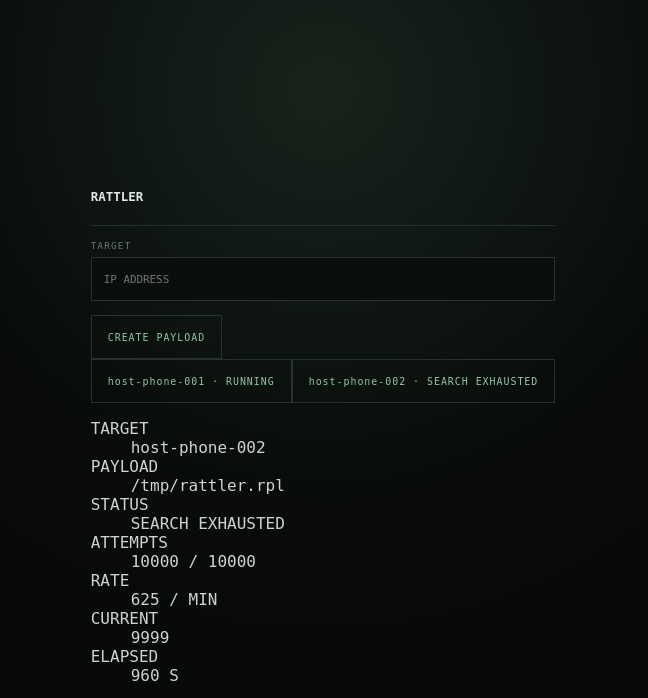
reconstructs and selects multiple canonical target deployments while authoring remains available
Expected: the navigation bar named "RATTLER deployments" shows "host-phone-001 · RUNNING", [91,359,555,403]
Expected: the navigation bar named "RATTLER deployments" shows "host-phone-002 · SEARCH EXHAUSTED", [91,359,555,403]
Click the button "host-phone-001 · RUNNING". click: click(191, 381)
box: [91,359,292,403]
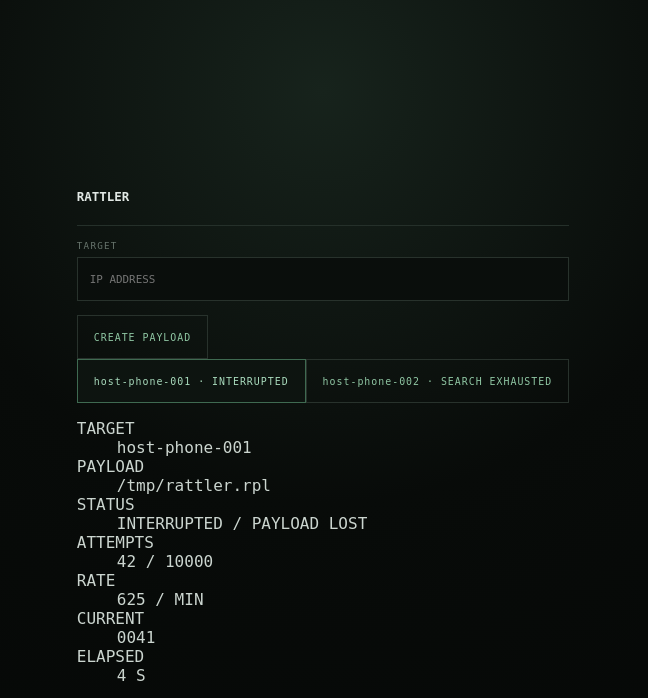
Expected: the button "CREATE PAYLOAD" is shown, [77,315,208,359]
Expected: the element named "RATTLER deployment status" shows "host-phone-001", [117,438,252,457]
